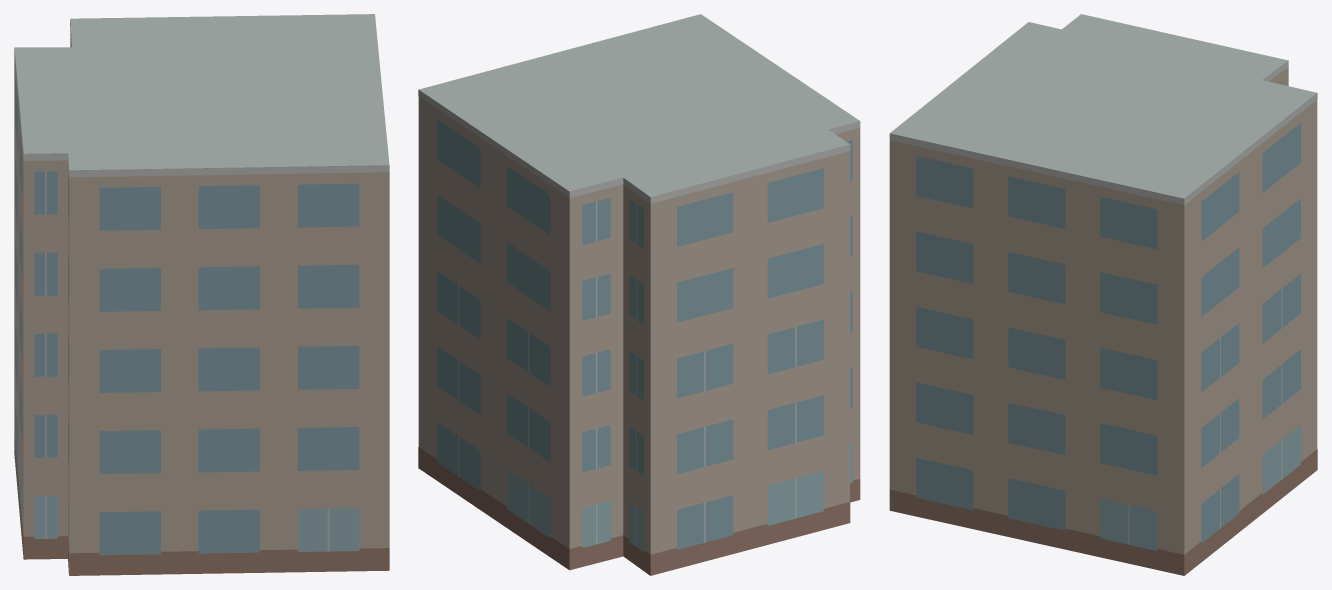
File: survey-upis-32657339.glb
3 renders of one model, left to right at view 1: azimuth 30°, elevation 25°; view 2: azimuth 150°, elevation 25°; view 3: azimuth 270°, elevation 25°, orthographic. The views are drawn at different scales.
Parts seen in each view (by area): view 1: survey-upis-32657339.tmp; view 2: survey-upis-32657339.tmp; view 3: survey-upis-32657339.tmp.
Part boxes in pixels (x1=…): survey-upis-32657339.tmp: x1=14, y1=14, x2=389, y2=575; survey-upis-32657339.tmp: x1=418, y1=14, x2=860, y2=575; survey-upis-32657339.tmp: x1=889, y1=14, x2=1317, y2=575.
Size of the model in its own units: 14.56 by 13.86 by 14.25.
